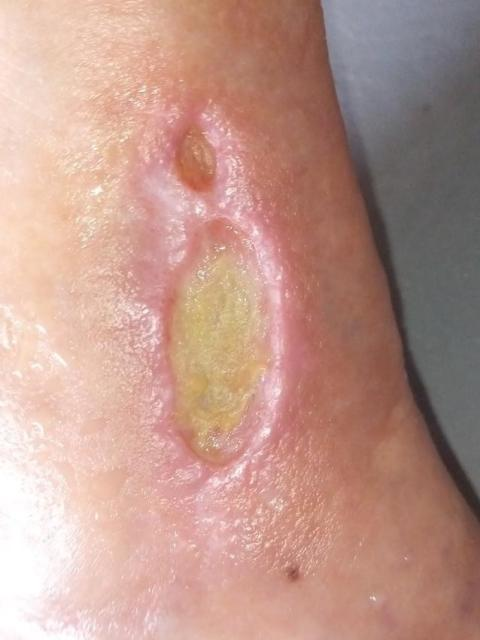wound: (164, 217, 273, 467), (171, 124, 221, 195)
